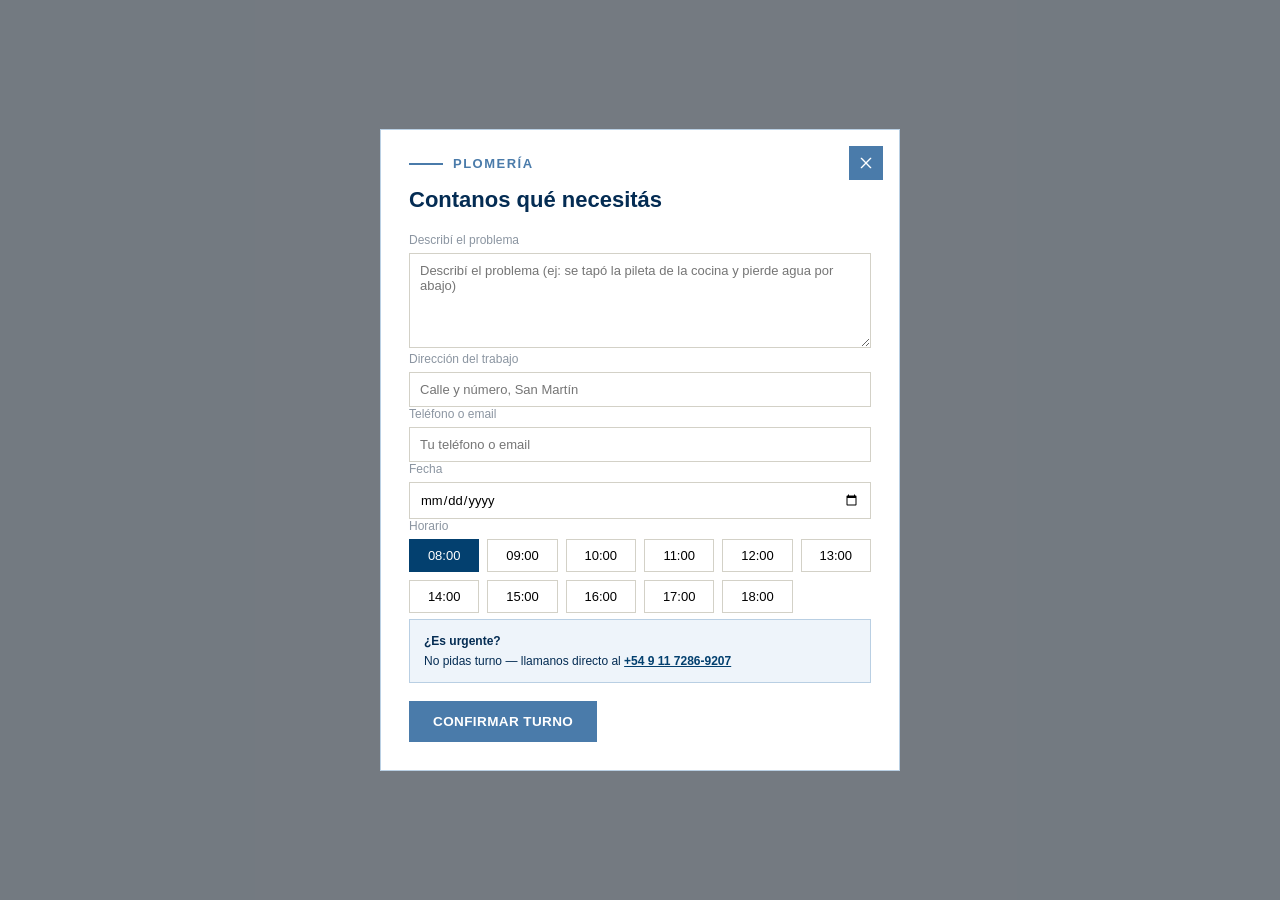
it: BookingModal › envía el turno con los datos correctos y muestra confirmación
Type "Se tapó la pileta y pierde agua por abajo." into the text box labelled "Describí el problema".
click(640, 300); type("Se tapó la pileta y pierde agua por abajo.")  # box [409,253,871,348]
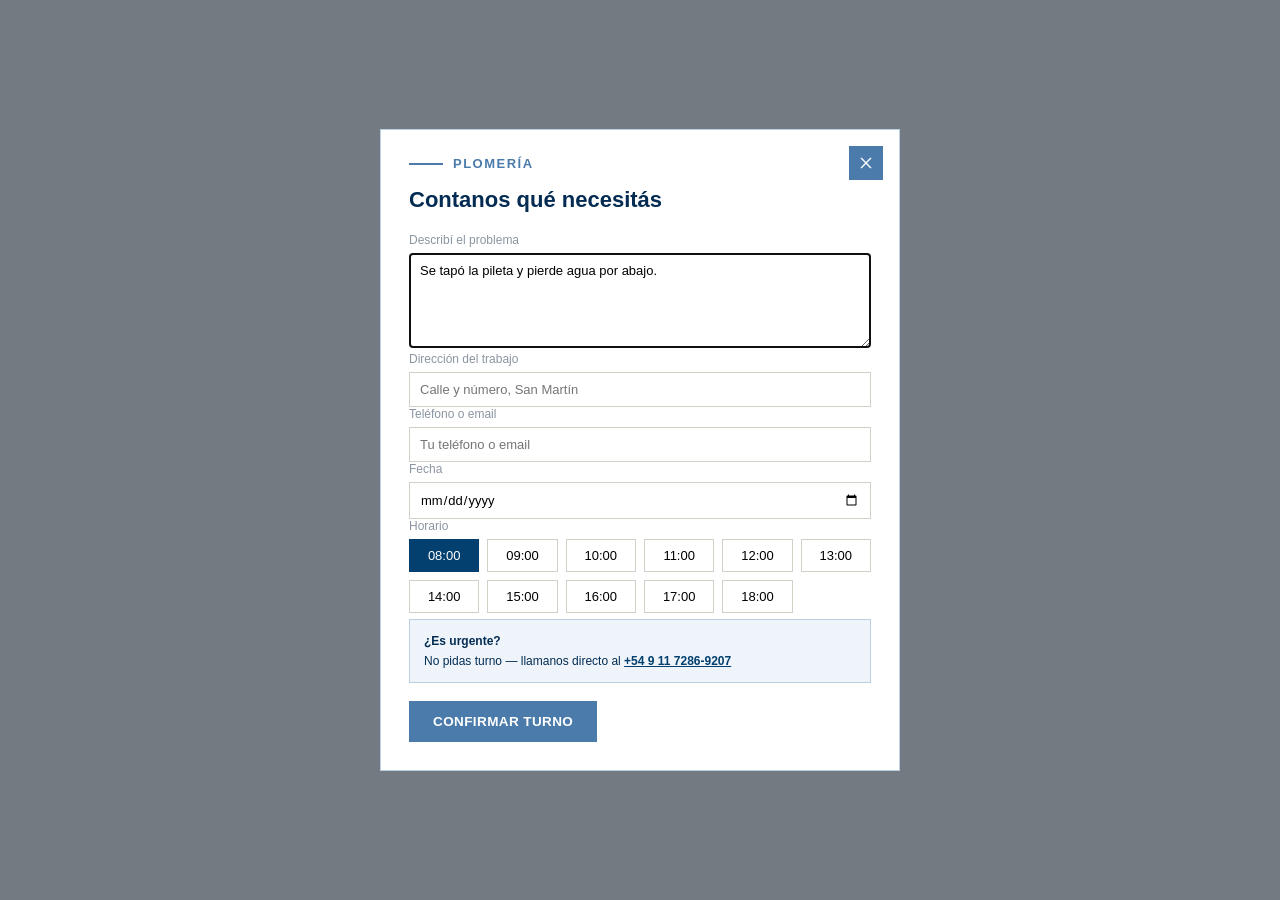
Type "Av. San Martín 1234" into the field labelled "Dirección del trabajo".
click(640, 390); type("Av. San Martín 1234")  # box [409,372,871,407]
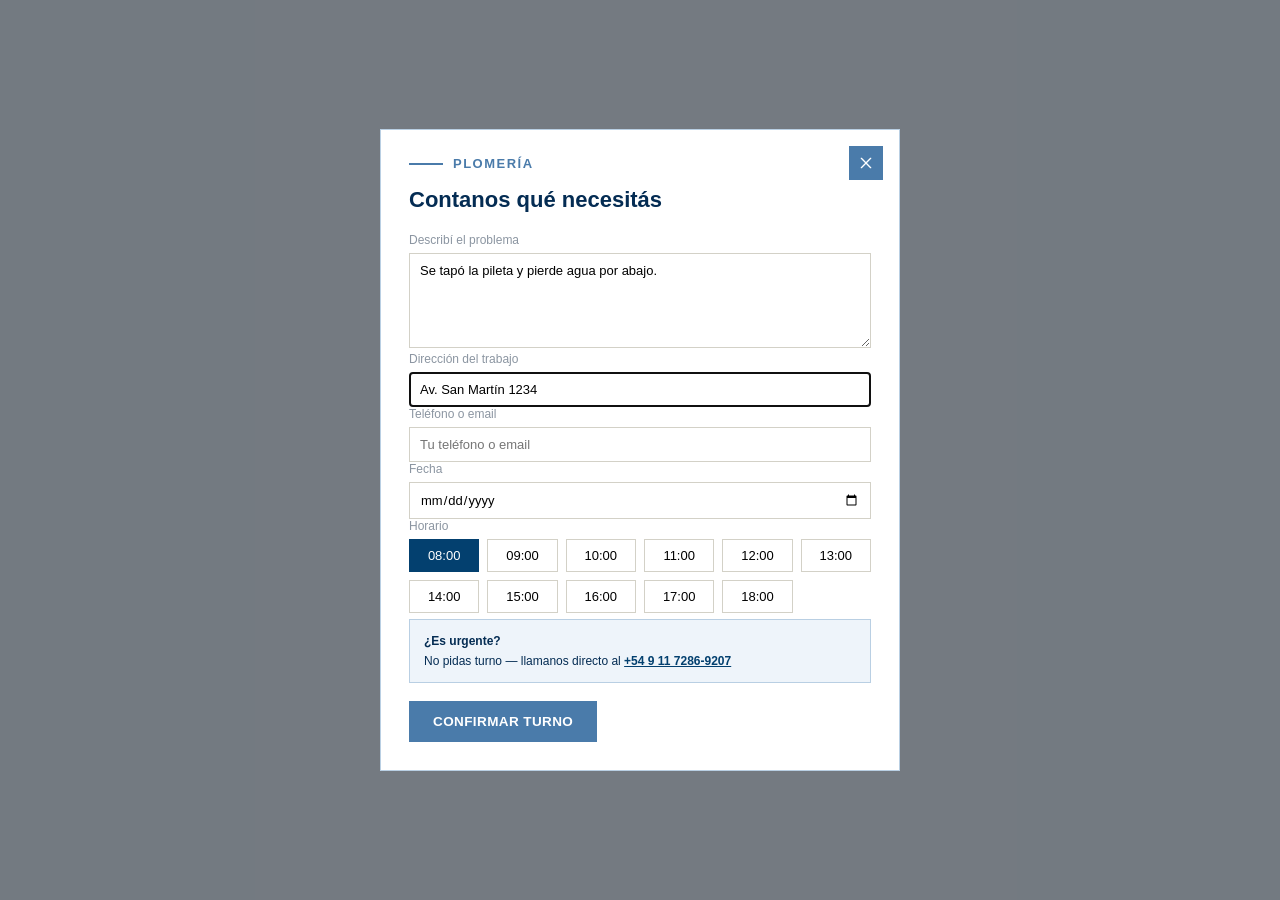
Type "11-2237-0857" into the field labelled "Teléfono o email".
click(640, 444); type("11-2237-0857")  # box [409,427,871,462]
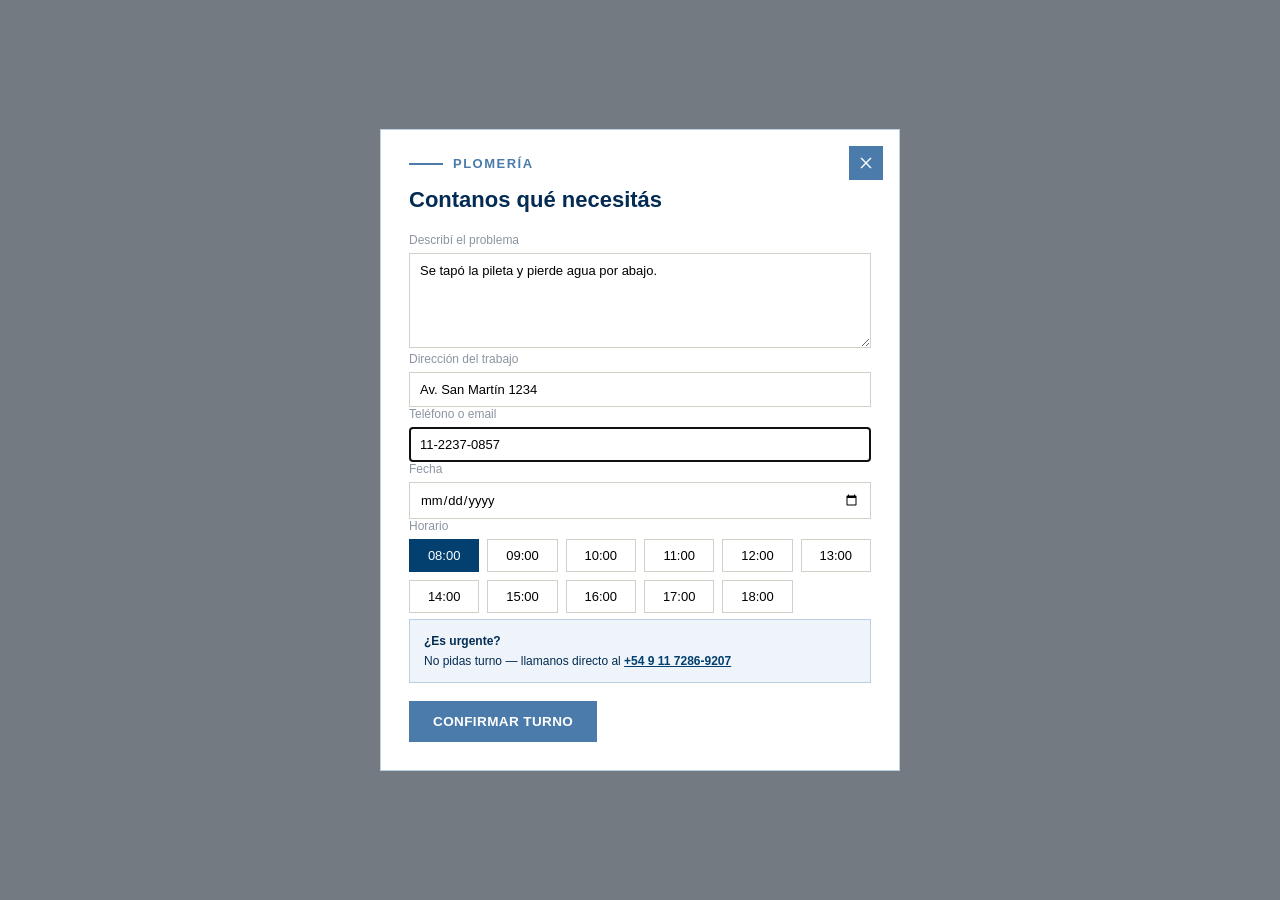
Type "2026-08-10" into the date field labelled "Fecha".
click(640, 500); type("2026-08-10")  # box [409,482,871,519]
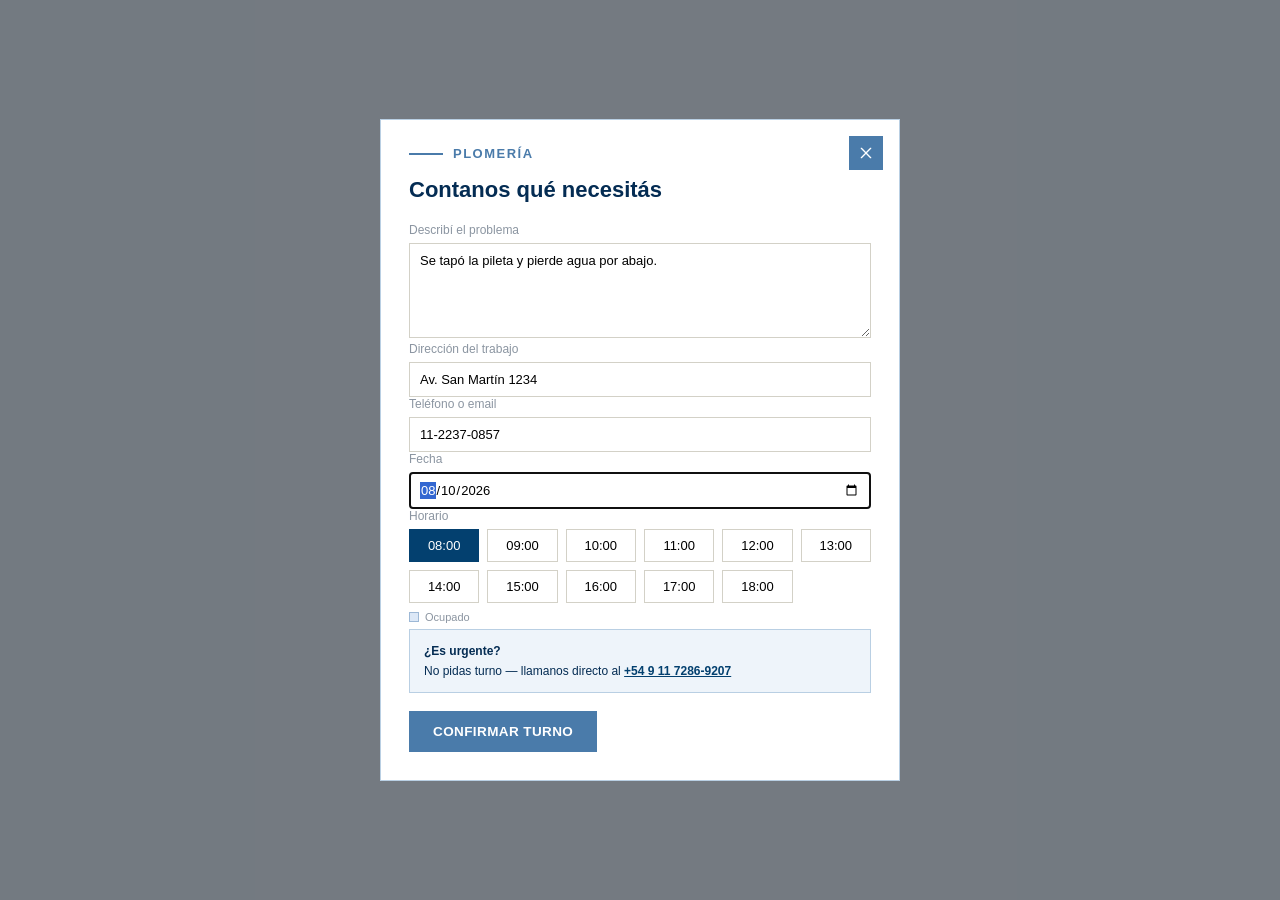
Click the button "Confirmar turno".
click(503, 732)  # box [409,711,597,752]
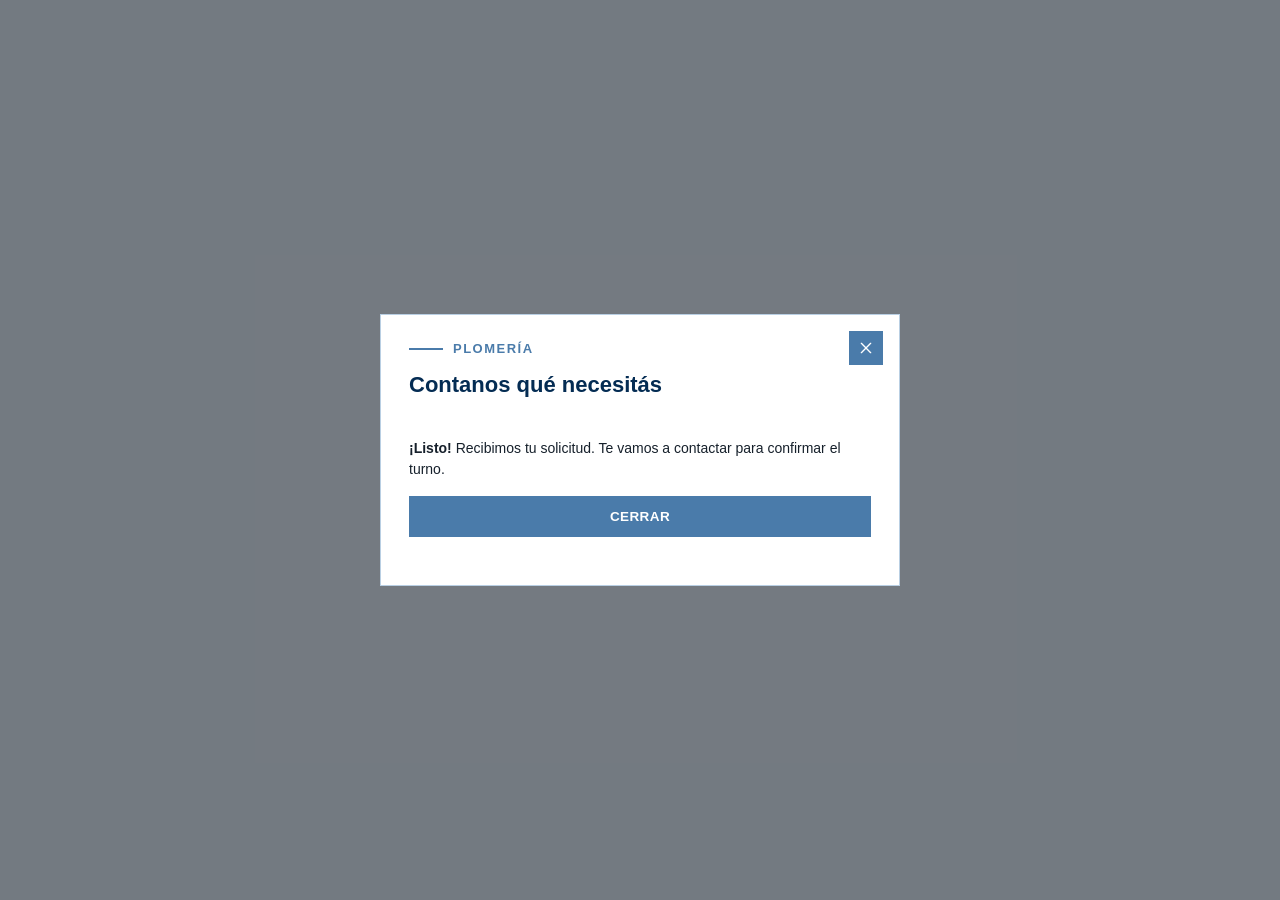
expect the text "Recibimos tu solicitud" is shown: met, box [409,440,841,477]
